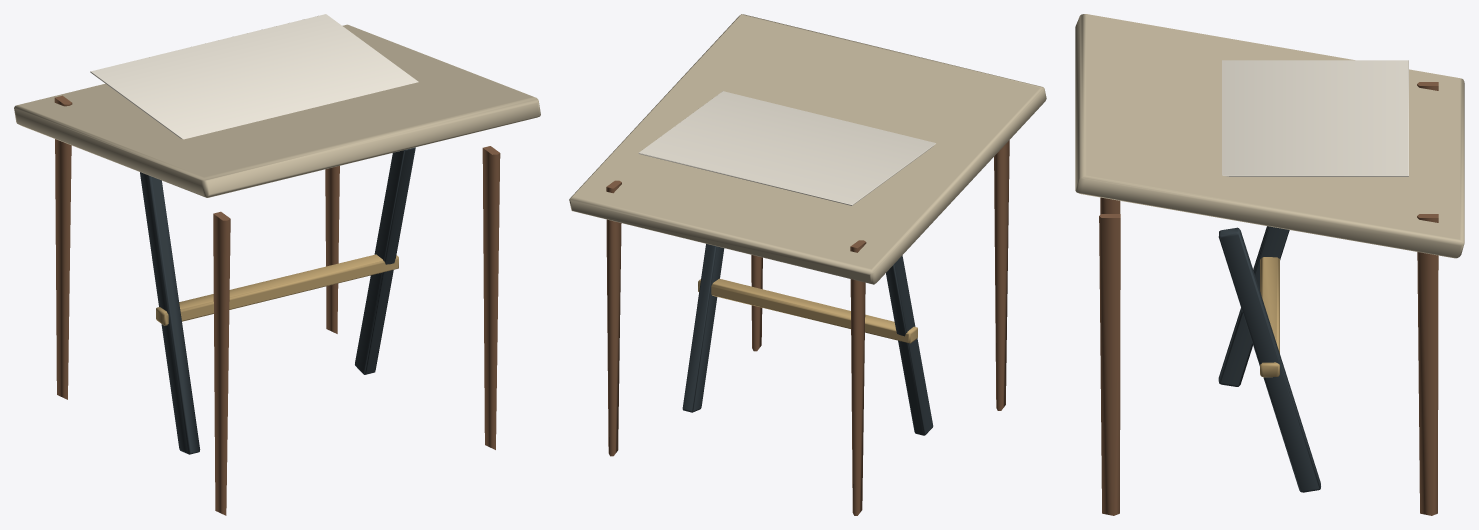
File: desk-20-2.lod.glb
3 views of the same model, side by side, from view 1: azimuth 30°, elevation 25°; view 2: azimuth 150°, elevation 25°; view 3: azimuth 270°, elevation 25° (orthographic). The views are drawn at different scales.
Visible parts, largest first — view 1: upholstery (×3), drawing-sheet, part; view 2: upholstery (×3), drawing-sheet, part; view 3: upholstery (×3), drawing-sheet, part.
Boxes of the visible parts, x1=… form: upholstery (×3): x1=14, y1=24, x2=540, y2=454; drawing-sheet: x1=90, y1=14, x2=418, y2=139; part: x1=54, y1=95, x2=500, y2=515; upholstery (×3): x1=569, y1=14, x2=1046, y2=435; drawing-sheet: x1=638, y1=91, x2=935, y2=205; part: x1=606, y1=140, x2=1009, y2=515; upholstery (×3): x1=1075, y1=14, x2=1464, y2=492; drawing-sheet: x1=1222, y1=60, x2=1408, y2=176; part: x1=1099, y1=82, x2=1438, y2=515.
Size of the model in its own units: 1 by 1 by 1.
